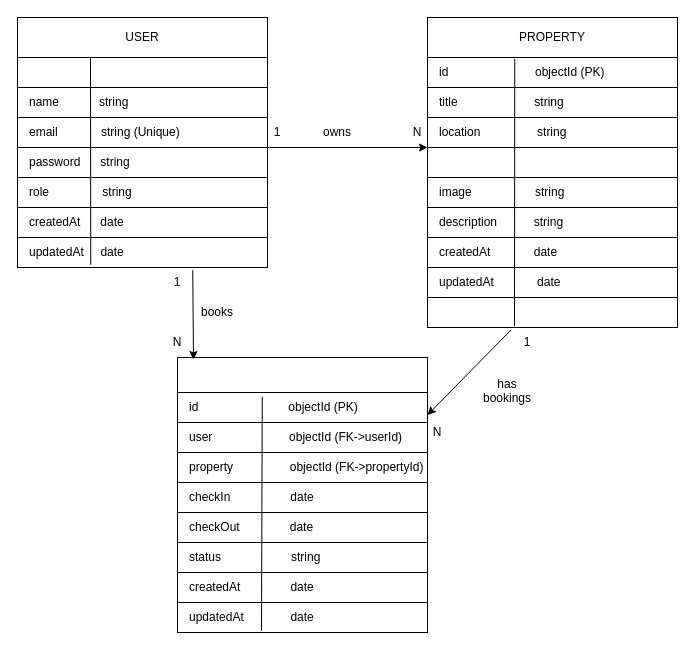
This 695x650 diagram has some shape labels left out. Each missing label, with the centre of its shape:
"BOOKING" belongs at (302,374).
"host objectId (FK->userId)" belongs at (552,312).
"id objectId(PK)" belongs at (142,72).
"price number" belongs at (552,162).
